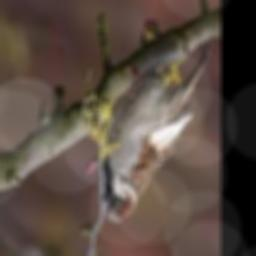Sparrow: (102, 40, 211, 224)
